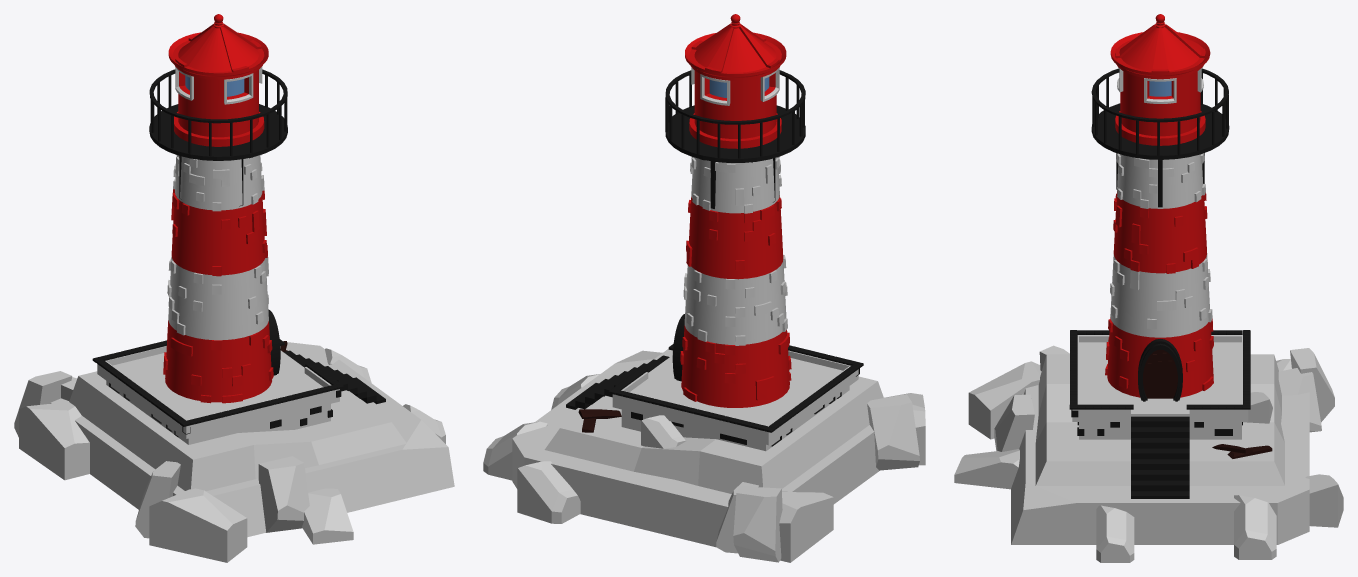
Rendered from lighthouse.obj.
3 views of the same model, side by side, from view 1: azimuth 30°, elevation 25°; view 2: azimuth 150°, elevation 25°; view 3: azimuth 270°, elevation 25° (orthographic). The views are drawn at different scales.
Parts seen in each view (by area): view 1: rocks, lighthouse, lighthouse2; view 2: rocks, lighthouse, lighthouse2, wood; view 3: rocks, lighthouse, lighthouse2, wood.
Part boxes in pixels (<box>): rocks: <box>14,342,454,562</box>; lighthouse: <box>163,14,273,403</box>; lighthouse2: <box>92,69,385,437</box>; rocks: <box>483,349,925,562</box>; lighthouse: <box>680,14,791,407</box>; lighthouse2: <box>566,70,863,446</box>; wood: <box>578,409,621,432</box>; rocks: <box>954,334,1343,562</box>; lighthouse: <box>1105,14,1213,397</box>; lighthouse2: <box>1069,68,1250,498</box>; wood: <box>1143,349,1272,458</box>.
Bounding box in the file's own units: 4.43 × 5.9 × 4.56.
